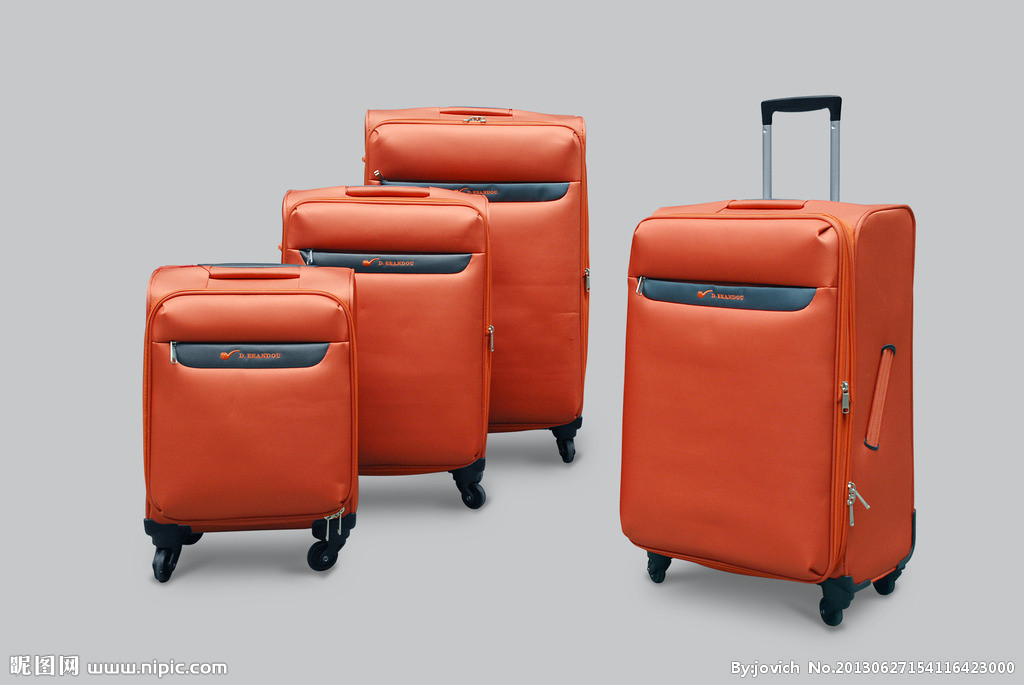luggage: (618, 93, 919, 627), (142, 263, 363, 582)
